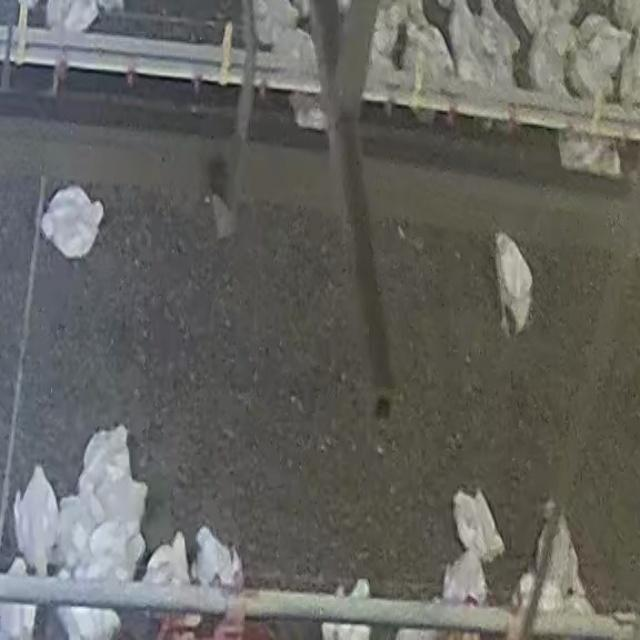chicken: (486, 228, 539, 340), (38, 182, 106, 258), (448, 486, 508, 565)
